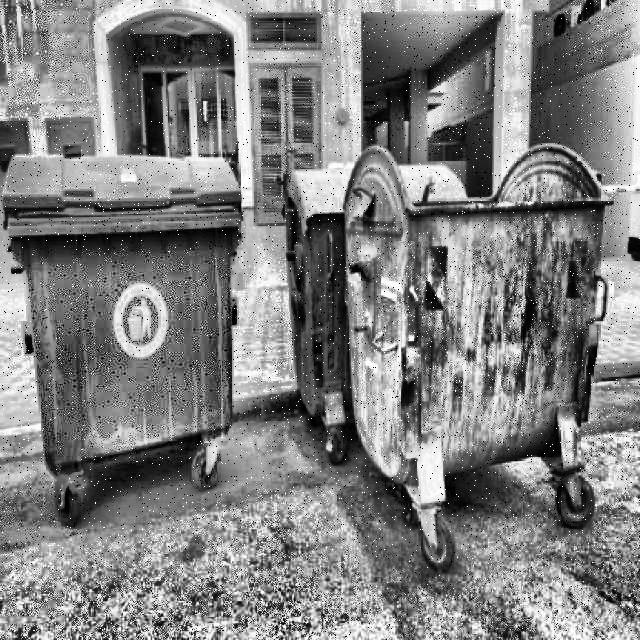Dustbin: (1, 144, 250, 540)
